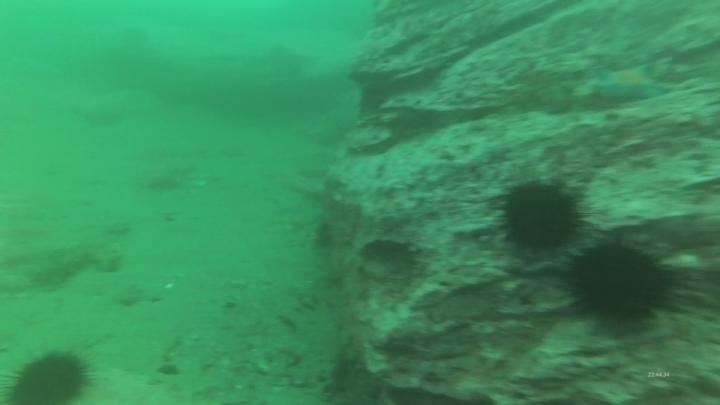echinus: (561, 234, 679, 335), (494, 175, 591, 259), (4, 346, 96, 405)
holothurian: (24, 236, 123, 293)
starfish: (591, 60, 673, 105)
